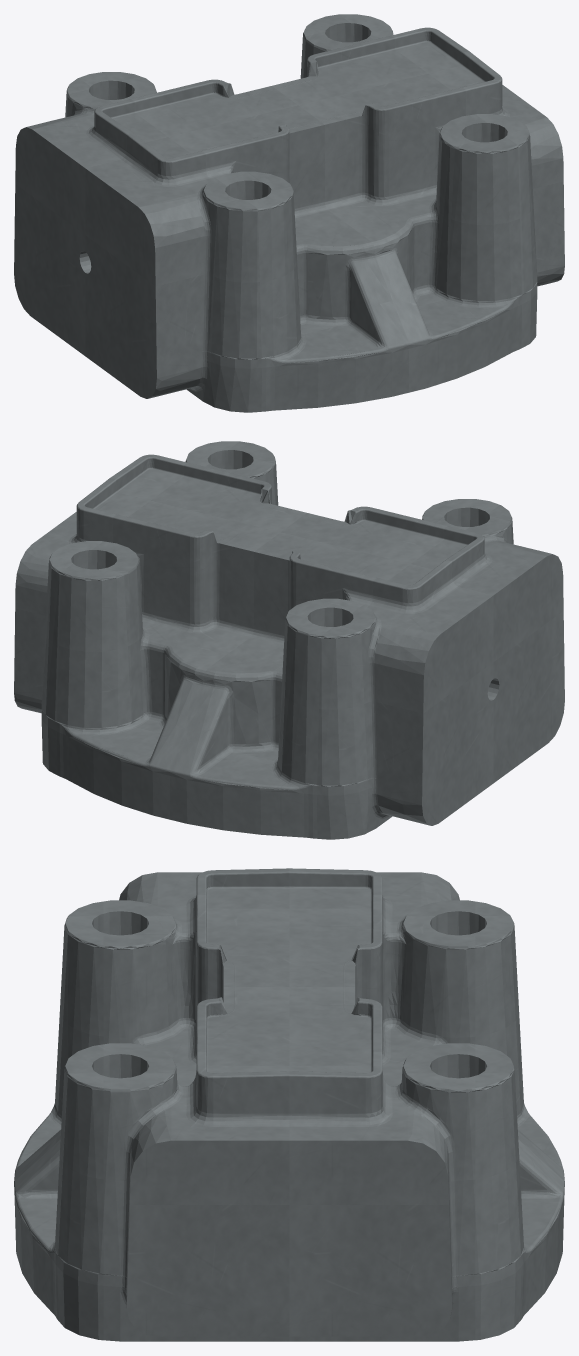
3 views of the same model, one above another, from view 1: azimuth 30°, elevation 25°; view 2: azimuth 150°, elevation 25°; view 3: azimuth 270°, elevation 25° (orthographic). The views are drawn at different scales.
Size of the model in its own units: 0.0613 by 0.031 by 0.0571.
1 material, 1 textured.
